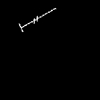treble_crochet: (19, 8, 55, 31)
